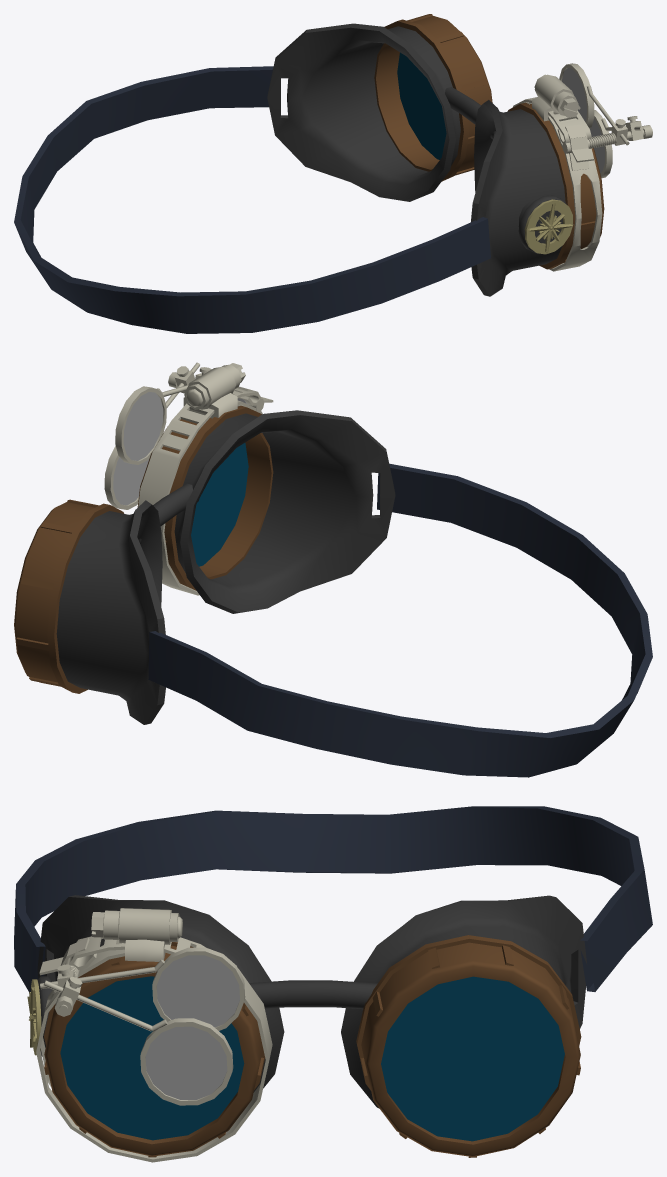
The model's file is Glasses.fbx.
3 views of the same model, one above another, from view 1: azimuth 30°, elevation 25°; view 2: azimuth 150°, elevation 25°; view 3: azimuth 270°, elevation 25° (orthographic). The views are drawn at different scales.
Parts seen in each view (by area): view 1: wireShape2, pCylinder35, pCylinder33, polySurface2, pCylinder38, pCylinder42, polySurface1, pCylinder20, pCylinder22, pCylinder15, pCylinder3, pCylinder39 (+1 smaller); view 2: wireShape2, pCylinder33, pCylinder35, polySurface2, polySurface1, pCylinder37, pCylinder42, pCylinder39, pCylinder40, pCylinder10, pCylinder3, pCylinder15 (+1 smaller); view 3: wireShape2, pCylinder38, polySurface2, pCylinder37, pCylinder35, polySurface1, pCylinder33, pCylinder42, pCylinder40, pCylinder39, pCylinder15, pCylinder11 (+4 smaller).
Part boxes in pixels (x1=…): wireShape2: x1=14, y1=66, x2=490, y2=333; pCylinder35: x1=267, y1=23, x2=460, y2=201; pCylinder33: x1=471, y1=100, x2=565, y2=296; polySurface2: x1=374, y1=16, x2=492, y2=181; pCylinder38: x1=397, y1=52, x2=446, y2=159; pCylinder42: x1=512, y1=97, x2=602, y2=271; polySurface1: x1=507, y1=102, x2=604, y2=269; pCylinder20: x1=524, y1=199, x2=573, y2=254; pCylinder22: x1=518, y1=195, x2=566, y2=253; pCylinder15: x1=445, y1=87, x2=495, y2=139; pCylinder3: x1=534, y1=74, x2=573, y2=113; pCylinder39: x1=562, y1=68, x2=586, y2=121; wireShape2: x1=148, y1=463, x2=652, y2=777; pCylinder33: x1=174, y1=410, x2=395, y2=613; pCylinder35: x1=56, y1=500, x2=165, y2=724; polySurface2: x1=14, y1=502, x2=124, y2=693; polySurface1: x1=137, y1=405, x2=273, y2=590; pCylinder37: x1=191, y1=443, x2=248, y2=566; pCylinder42: x1=138, y1=388, x2=262, y2=595; pCylinder39: x1=123, y1=392, x2=163, y2=460; pCylinder40: x1=113, y1=457, x2=149, y2=505; pCylinder10: x1=115, y1=386, x2=166, y2=464; pCylinder3: x1=188, y1=366, x2=236, y2=409; pCylinder15: x1=138, y1=483, x2=199, y2=543; wireShape2: x1=14, y1=806, x2=652, y2=992; pCylinder38: x1=381, y1=976, x2=564, y2=1141; polySurface2: x1=356, y1=935, x2=581, y2=1156; pCylinder37: x1=60, y1=976, x2=244, y2=1140; pCylinder35: x1=341, y1=895, x2=587, y2=1108; polySurface1: x1=44, y1=942, x2=265, y2=1156; pCylinder33: x1=37, y1=895, x2=284, y2=1092; pCylinder42: x1=36, y1=936, x2=272, y2=1162; pCylinder40: x1=145, y1=1026, x2=227, y2=1099; pCylinder39: x1=157, y1=955, x2=239, y2=1027; pCylinder15: x1=249, y1=980, x2=377, y2=1009; pCylinder11: x1=140, y1=1018, x2=233, y2=1105.
Size of the model in its own units: 12.41 by 4.54 by 10.34.
